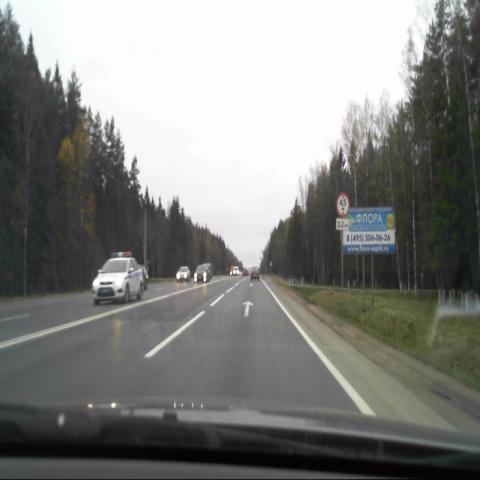3_13: (336, 192, 350, 216)
